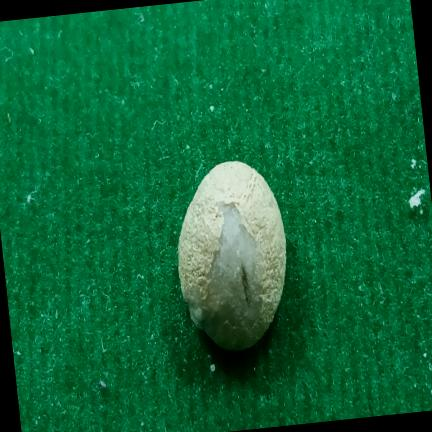good: (179, 161, 286, 350)
